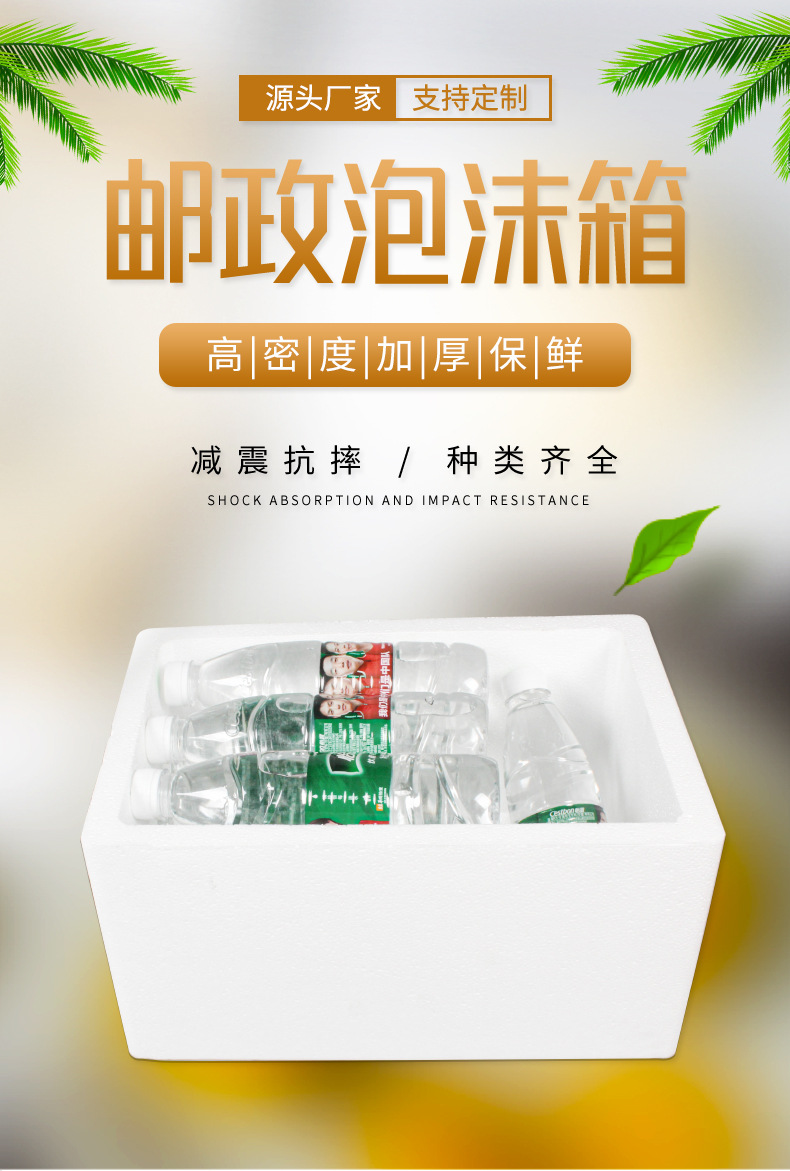Boxes: (83, 616, 723, 1059)
